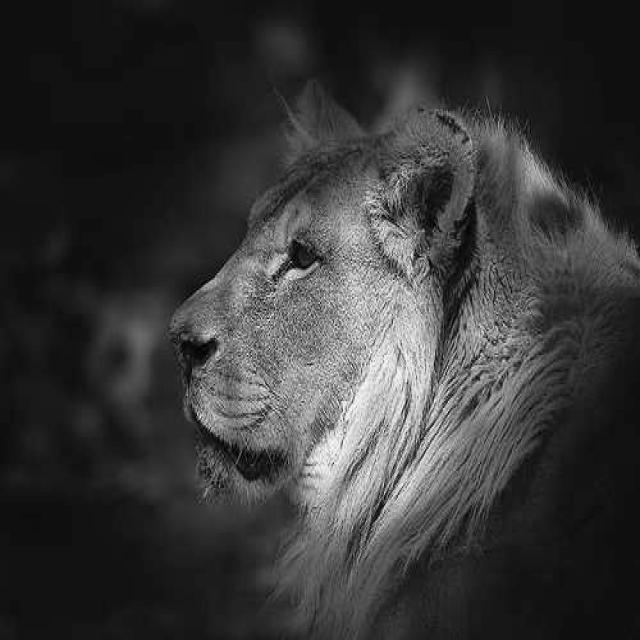Lion: (157, 120, 520, 621)
